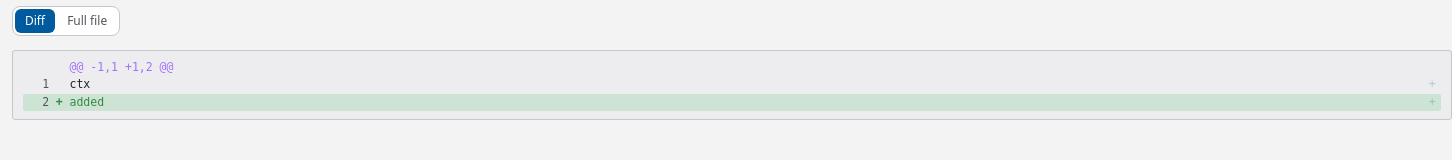
Scenario: CommentableDiff › reports when the full file cannot be read
Click the tab "Full file": (87, 21) [57,9,117,33]
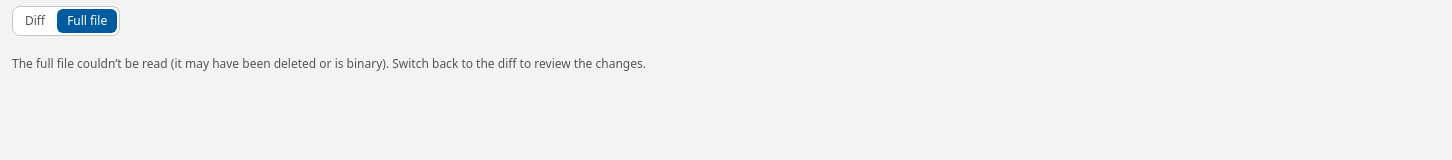
expect the text "full file couldn.t be read" is shown: met, box [12,55,646,72]
